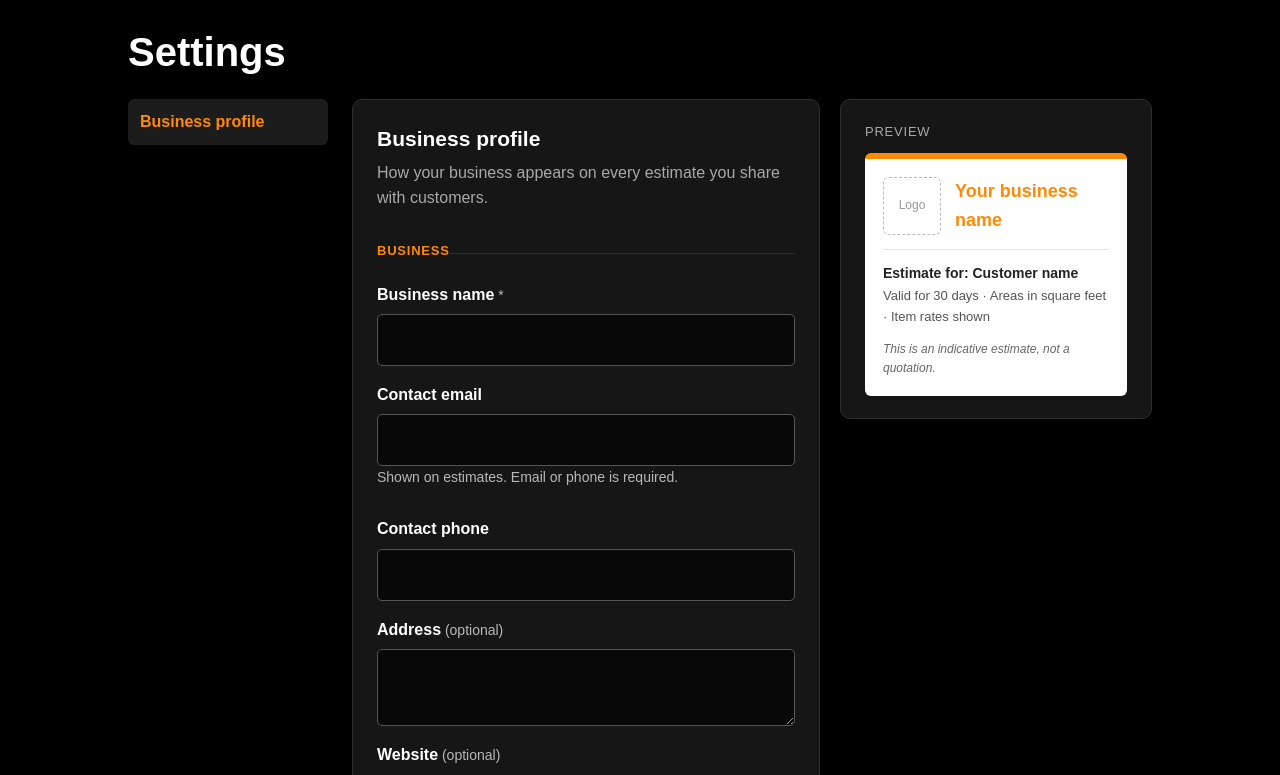
Scenario: Settings › Business profile (#30) › saves the profile, then offers the dashboard once setup is complete
Expected: the heading "Business profile" is shown, [377, 127, 540, 150]
Type "Sharma Interiors" into the field labelled "Business name" at (586, 340), box [377, 314, 795, 366]
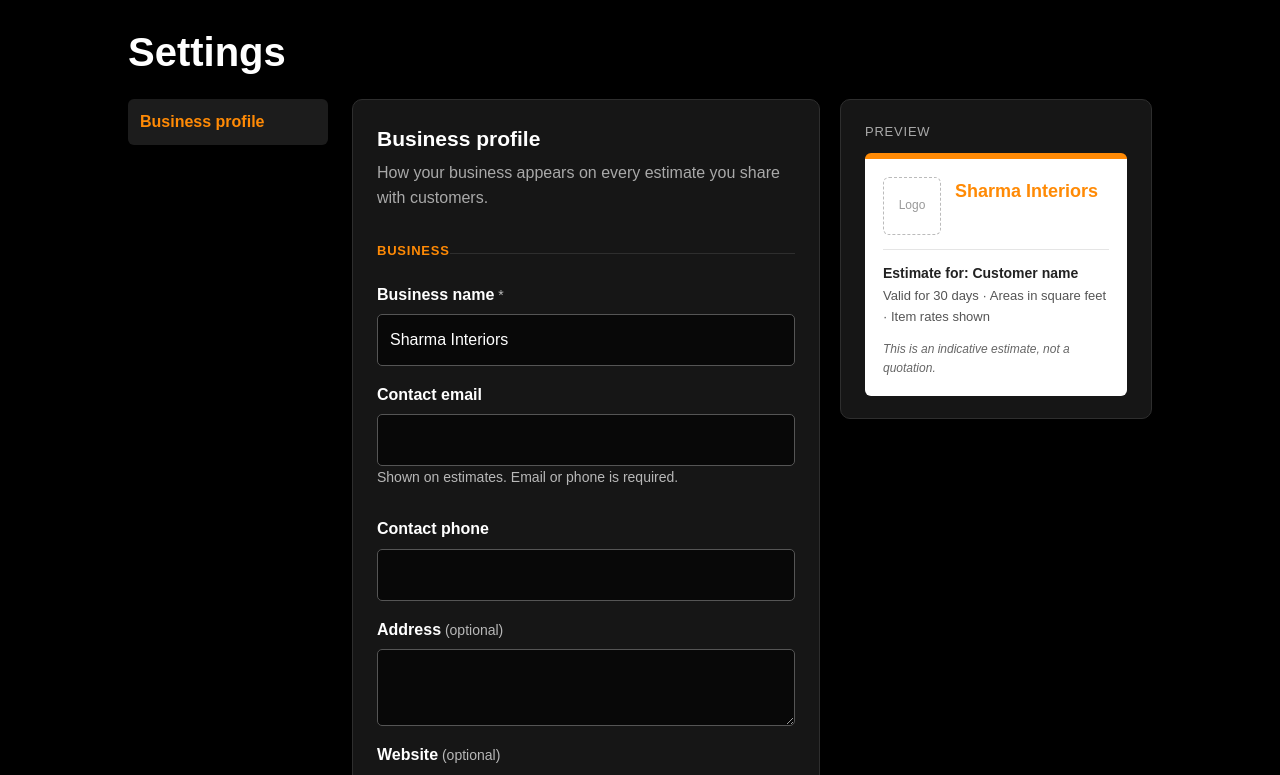
Type "+91 98765 43210" into the field labelled "Contact phone" at (586, 575), box [377, 549, 795, 600]
(page scrolled)
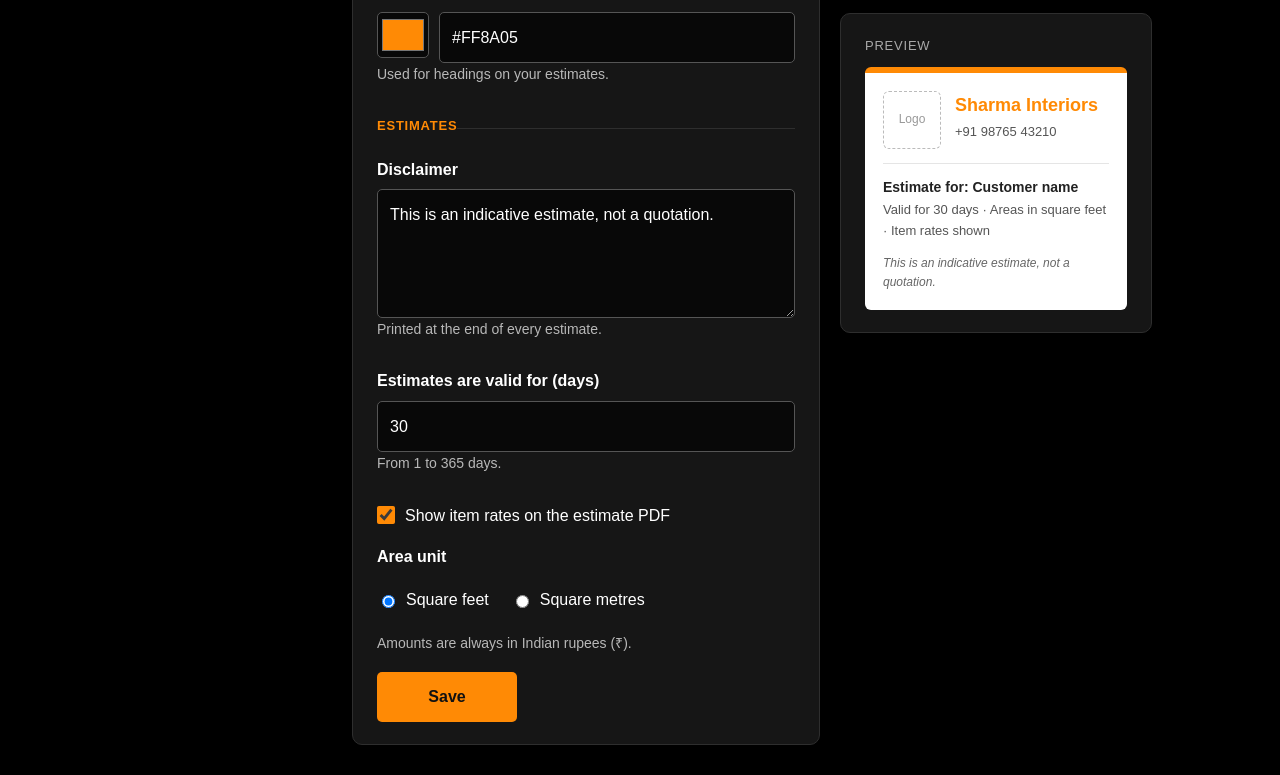
Replace the text in the number field labelled "Estimates are valid for" with "45" at (586, 426), box [377, 401, 795, 452]
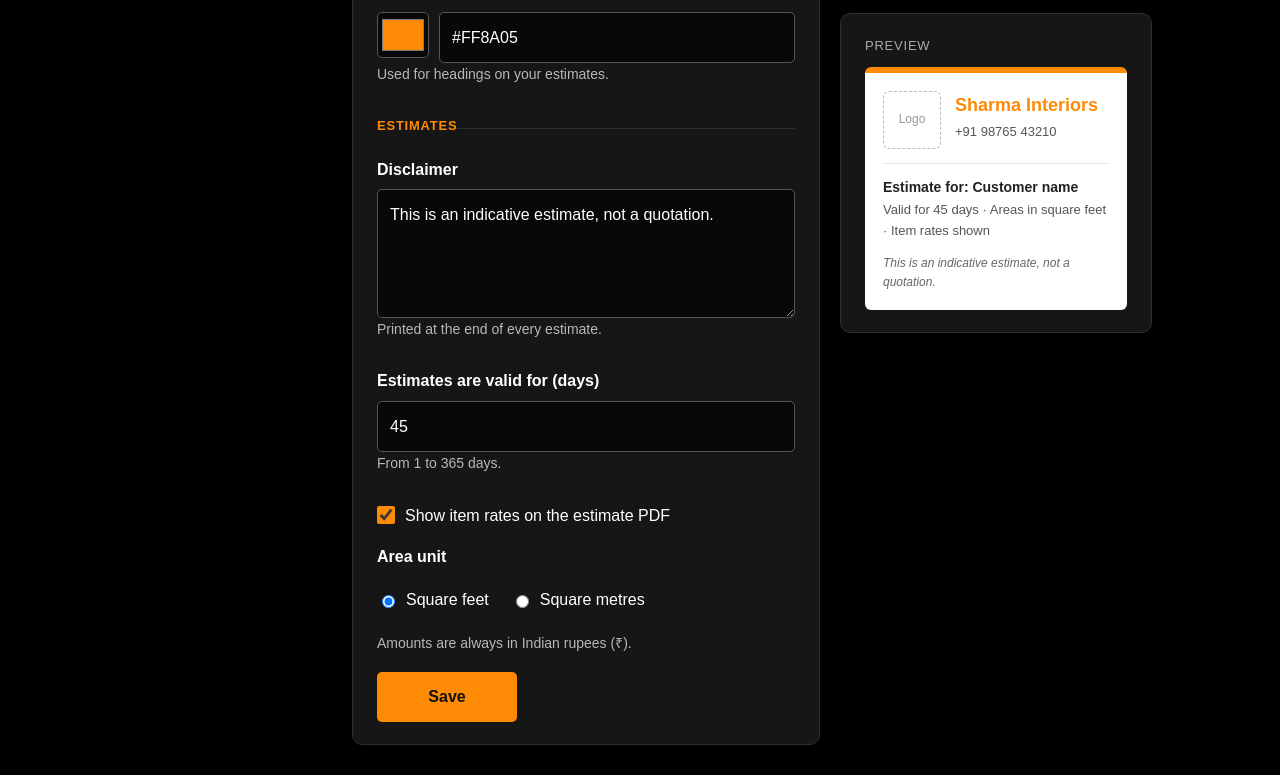
Click the button "Save" at (447, 697), box [377, 672, 517, 722]
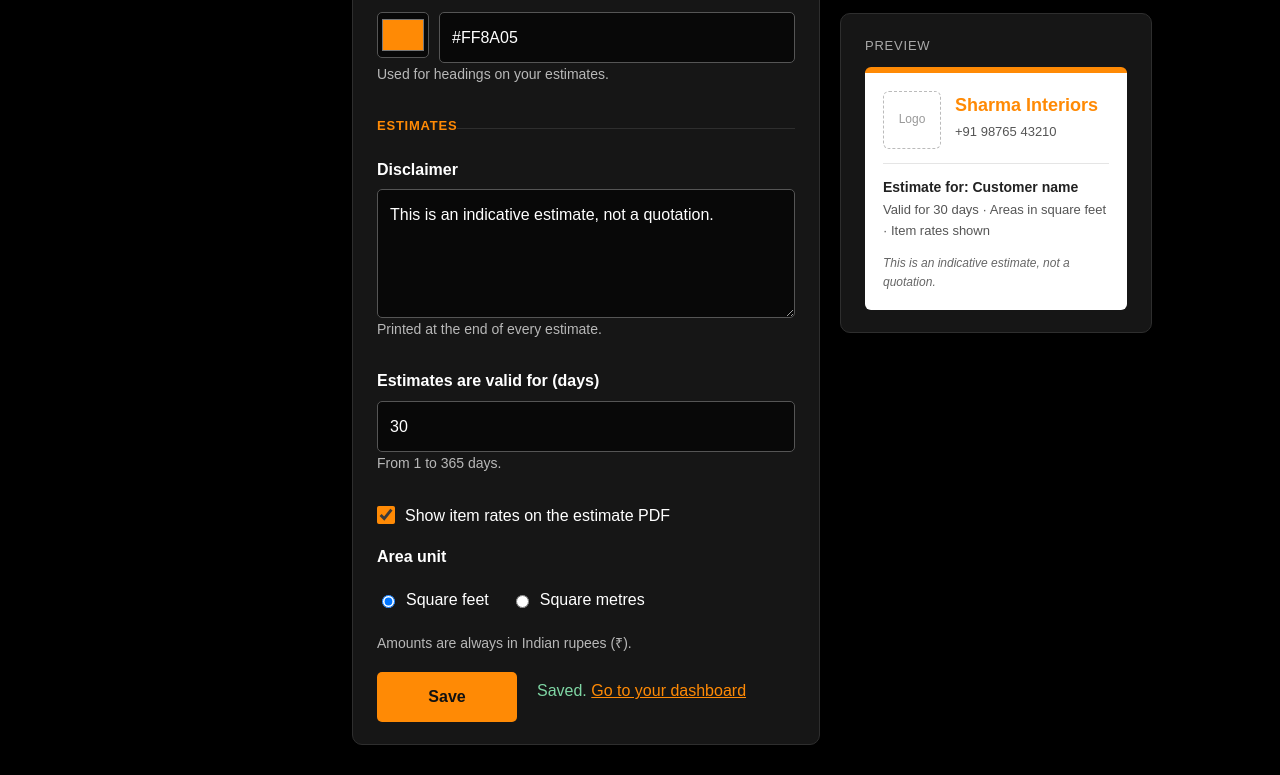
Result: the text "Saved. Go to your dashboard" is shown at [537, 678, 746, 704]
